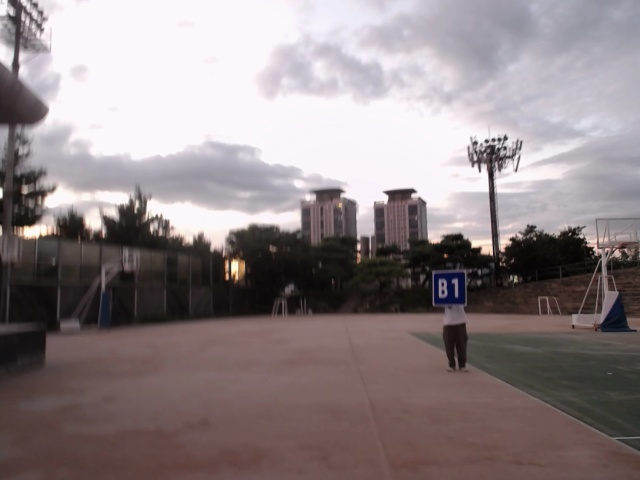delivery_b1: (433, 274, 467, 307)
